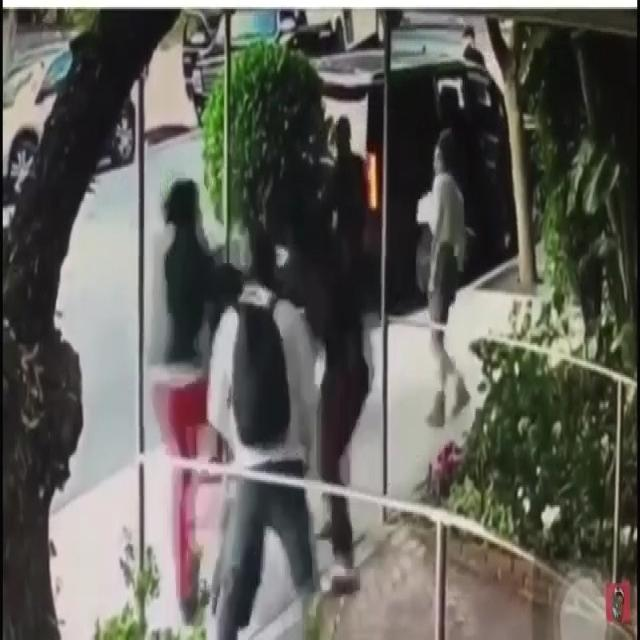fight: (211, 179, 364, 640)
